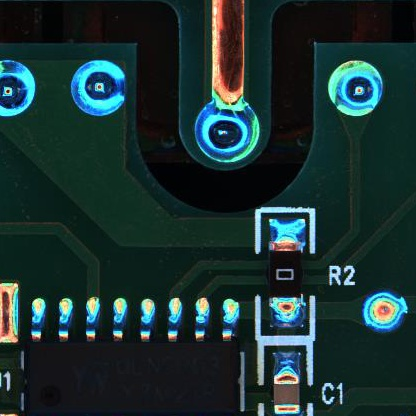spot: (194, 99, 259, 164), (70, 60, 127, 119), (327, 59, 382, 117), (1, 59, 38, 118), (360, 291, 406, 333)
